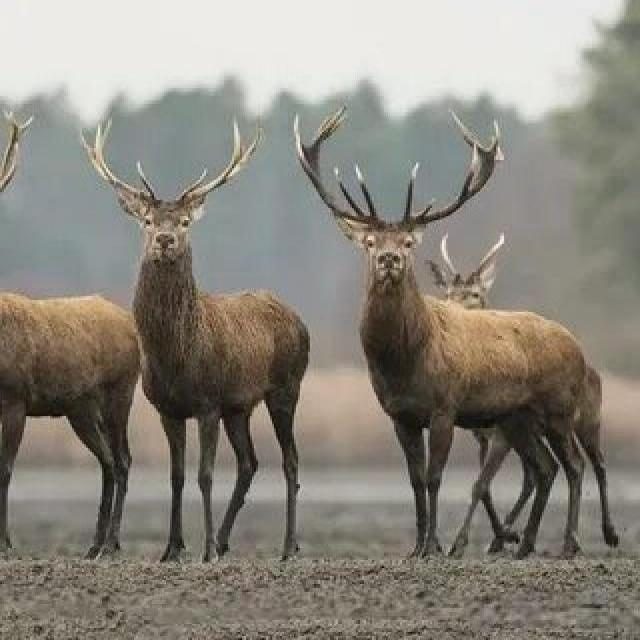deer: (38, 131, 388, 537), (274, 183, 626, 586)
